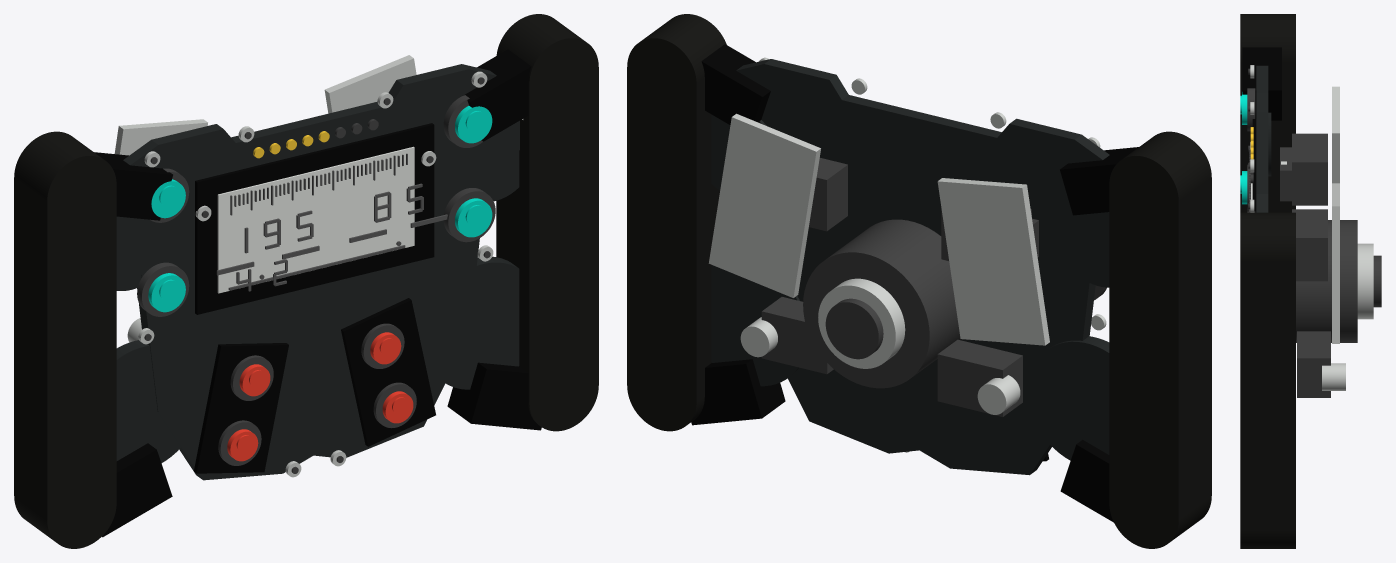
The model's file is f1_steering_wheel_assembly.glb.
3 renders of one model, left to right at view 1: azimuth 30°, elevation 25°; view 2: azimuth 150°, elevation 25°; view 3: azimuth 270°, elevation 25°, orthographic. The views are drawn at different scales.
Parts seen in each view (by area): view 1: =>[0:1:1:4], =>[0:1:1:8], =>[0:1:1:34], =>[0:1:1:62], =>[0:1:1:60], =>[0:1:1:280], =>[0:1:1:297], =>[0:1:1:10], =>[0:1:1:36], =>[0:1:1:46], =>[0:1:1:20], =>[0:1:1:12] (+19 smaller); view 2: =>[0:1:1:4], =>[0:1:1:8], =>[0:1:1:34], =>[0:1:1:380], =>[0:1:1:394], =>[0:1:1:374], =>[0:1:1:20], =>[0:1:1:10], =>[0:1:1:46], =>[0:1:1:36], =>[0:1:1:386], =>[0:1:1:42] (+13 smaller); view 3: =>[0:1:1:34], =>[0:1:1:374], =>[0:1:1:8], =>[0:1:1:36], =>[0:1:1:382], =>[0:1:1:396], =>[0:1:1:10], =>[0:1:1:400], =>[0:1:1:4], =>[0:1:1:14], =>[0:1:1:376], =>[0:1:1:394] (+9 smaller).
Part boxes in pixels (x1,y1,x2,y2): =>[0:1:1:4]: (116, 64, 519, 480); =>[0:1:1:8]: (14, 177, 116, 519); =>[0:1:1:34]: (496, 67, 598, 402); =>[0:1:1:62]: (217, 146, 414, 293); =>[0:1:1:60]: (195, 123, 434, 314); =>[0:1:1:280]: (193, 343, 288, 473); =>[0:1:1:297]: (341, 298, 435, 446); =>[0:1:1:10]: (14, 131, 116, 230); =>[0:1:1:36]: (496, 14, 598, 112); =>[0:1:1:46]: (445, 256, 519, 389); =>[0:1:1:20]: (116, 340, 180, 463); =>[0:1:1:12]: (14, 474, 116, 548); =>[0:1:1:4]: (736, 59, 1109, 475); =>[0:1:1:8]: (1109, 177, 1211, 519); =>[0:1:1:34]: (627, 67, 719, 402); =>[0:1:1:380]: (937, 178, 1049, 345); =>[0:1:1:394]: (708, 113, 820, 297); =>[0:1:1:374]: (803, 219, 961, 388); =>[0:1:1:20]: (1028, 336, 1109, 460); =>[0:1:1:10]: (1109, 131, 1211, 227); =>[0:1:1:46]: (711, 265, 799, 386); =>[0:1:1:36]: (627, 14, 726, 111); =>[0:1:1:386]: (937, 339, 1022, 416); =>[0:1:1:42]: (691, 359, 785, 425); =>[0:1:1:34]: (1240, 260, 1295, 529); =>[0:1:1:374]: (1296, 220, 1357, 342); =>[0:1:1:8]: (1240, 62, 1295, 212); =>[0:1:1:36]: (1240, 212, 1295, 260); =>[0:1:1:382]: (1292, 133, 1327, 205); =>[0:1:1:396]: (1292, 209, 1327, 281); =>[0:1:1:10]: (1240, 14, 1295, 61); =>[0:1:1:400]: (1297, 331, 1330, 397); =>[0:1:1:4]: (1256, 65, 1268, 212); =>[0:1:1:14]: (1242, 47, 1281, 120); =>[0:1:1:376]: (1357, 243, 1373, 319); =>[0:1:1:394]: (1332, 183, 1339, 343).
Size of the model in its own units: 0.27 by 0.183 by 0.071.
